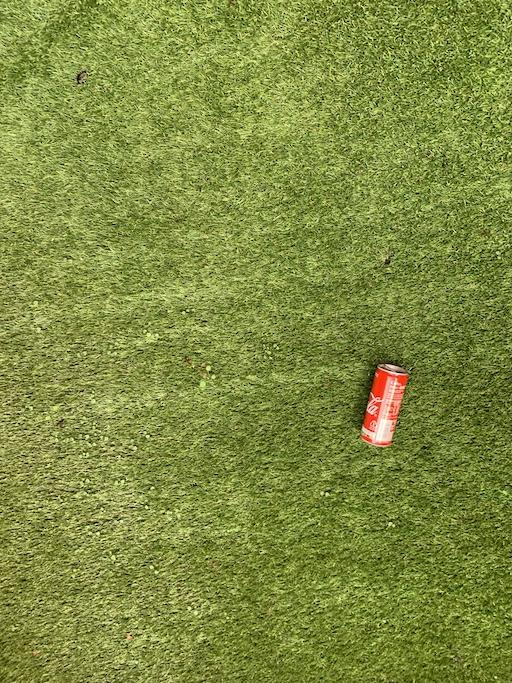Aluminum can: (353, 358, 420, 454)
